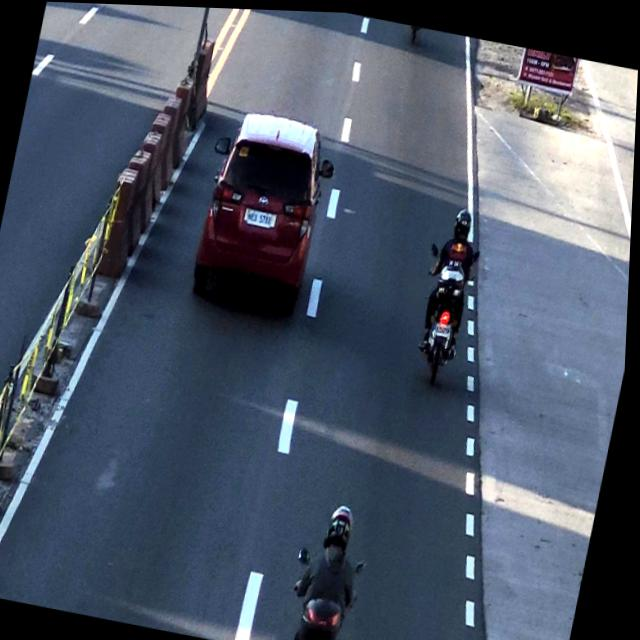Car: (192, 104, 338, 314)
License-Plate: (245, 202, 280, 230), (435, 317, 457, 338)
Motorcycle: (288, 491, 375, 640), (418, 201, 488, 382)
